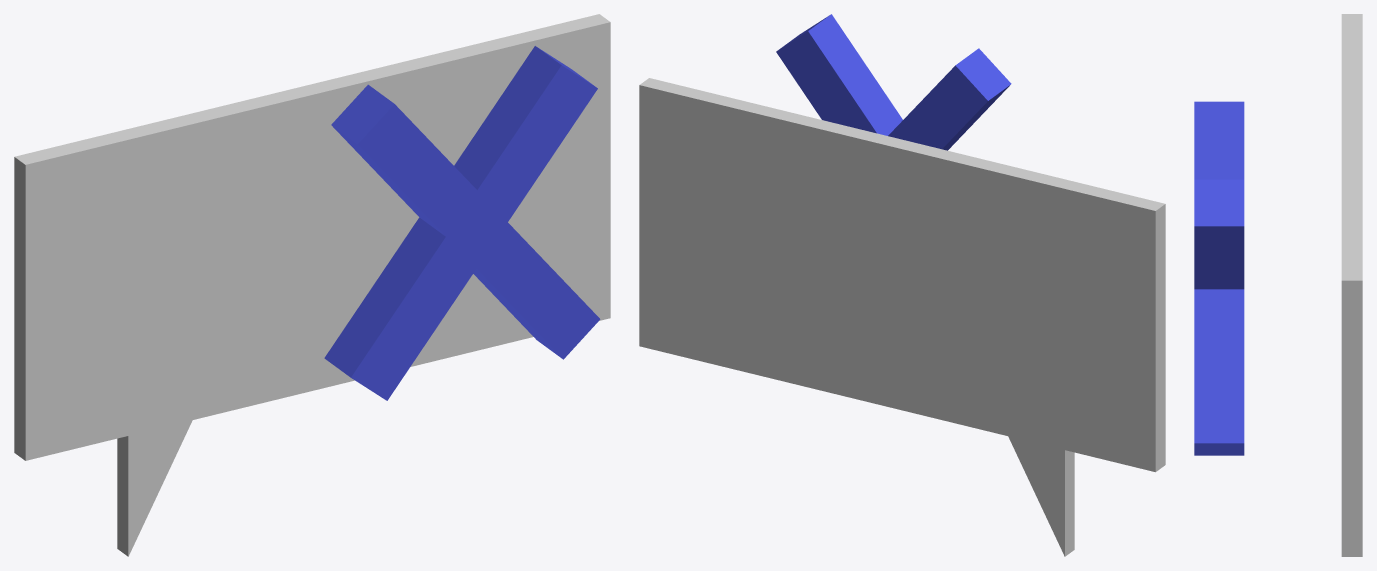
The model's file is XBubble.glb.
The picture shows the model from 3 angles, left to right: view 1: azimuth 30°, elevation 25°; view 2: azimuth 150°, elevation 25°; view 3: azimuth 270°, elevation 25°; orthographic projection. The views are drawn at different scales.
Visible parts, largest first — view 1: Bubble, Cube, Cube.001; view 2: Bubble, Cube, Cube.001; view 3: Cube.001, Bubble, Cube.
Part boxes in pixels (left/top/right/bottom): Bubble: left=14, top=14, right=610, bottom=556; Cube: left=324, top=46, right=597, bottom=400; Cube.001: left=331, top=84, right=600, bottom=359; Bubble: left=639, top=78, right=1165, bottom=556; Cube: left=776, top=14, right=902, bottom=135; Cube.001: left=888, top=48, right=1011, bottom=150; Cube.001: left=1194, top=101, right=1244, bottom=455; Bubble: left=1341, top=14, right=1362, bottom=556; Cube: left=1194, top=179, right=1244, bottom=289.
Bounding box in the file's own units: 3.05 × 2.32 × 0.8132.
